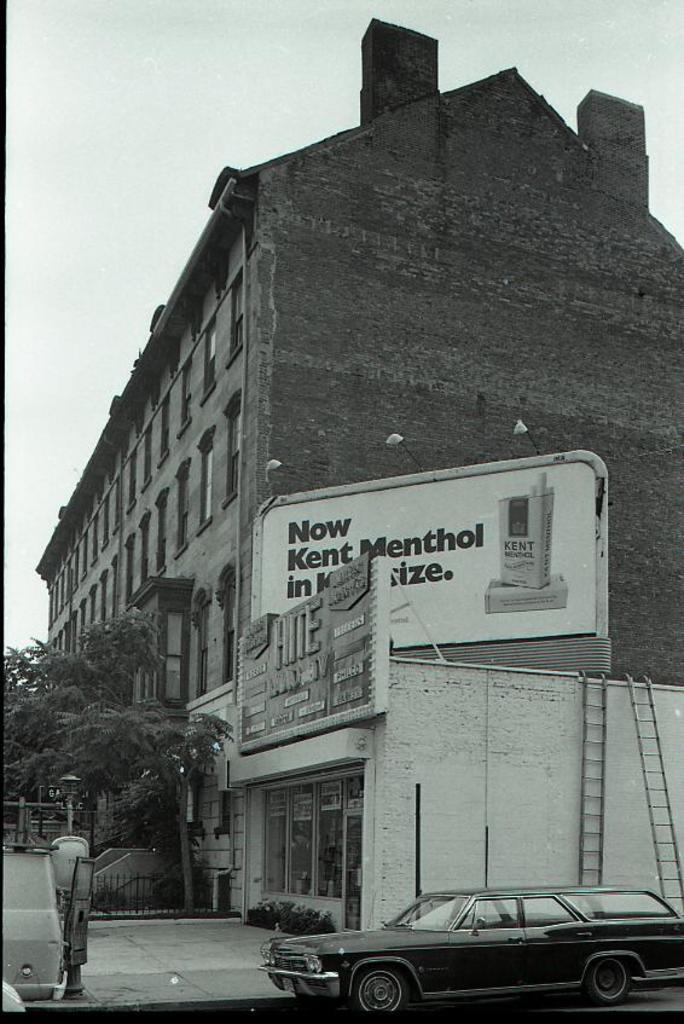cars: (256, 880, 682, 1022)
